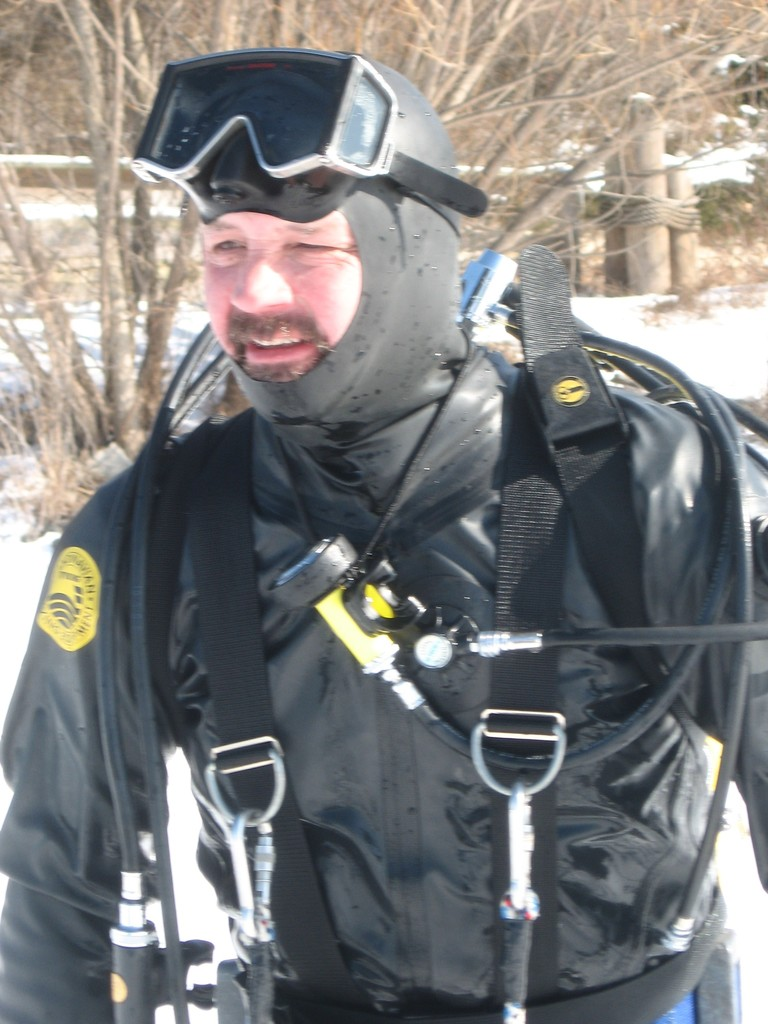Person: (0, 46, 767, 1023)
